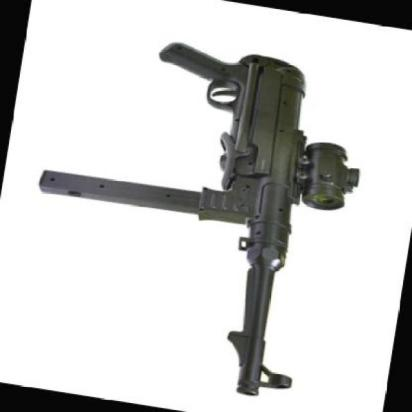Gun: (5, 15, 374, 412)
